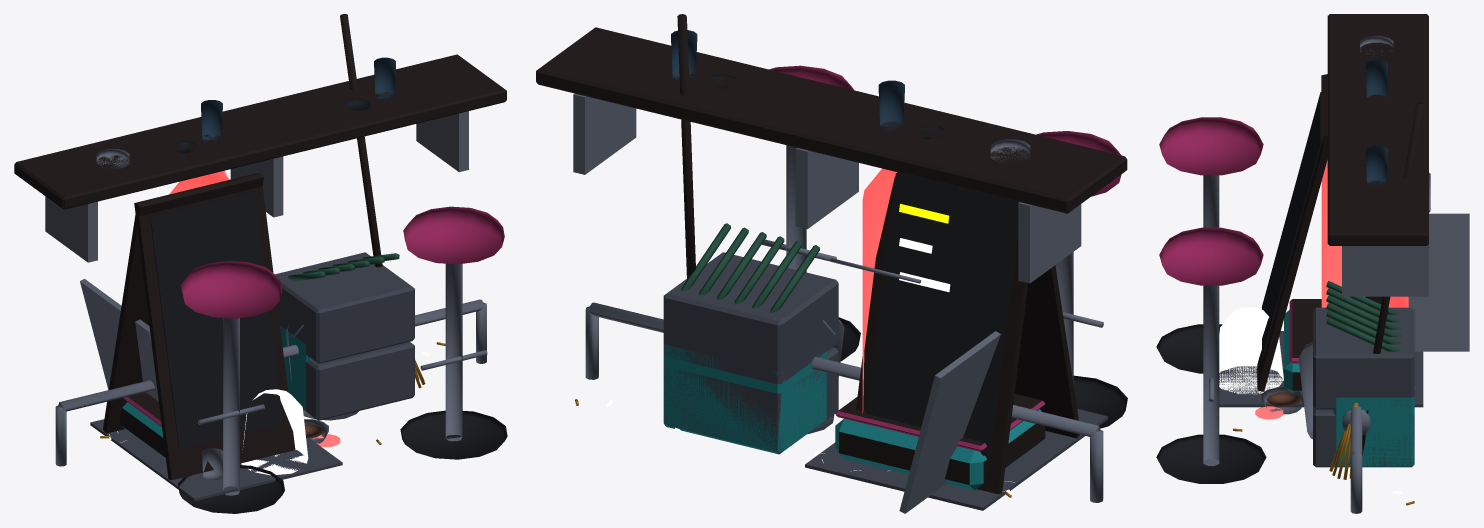
Rendered from room-detail-deptak-props.glb.
3 views of the same model, side by side, from view 1: azimuth 30°, elevation 25°; view 2: azimuth 150°, elevation 25°; view 3: azimuth 270°, elevation 25° (orthographic). The views are drawn at different scales.
Parts seen in each view (by area): view 1: rd-dp-bar, rd-dp-koi-door, rd-dp-ramen, rd-dp-ume; view 2: rd-dp-bar, rd-dp-koi-door, rd-dp-ramen, rd-dp-ume; view 3: rd-dp-bar, rd-dp-ramen, rd-dp-koi-door, rd-dp-ume.
Boxes of the visible parts, x1,y1,x2,y2 form: rd-dp-bar: [14, 54, 507, 513]; rd-dp-koi-door: [103, 173, 340, 480]; rd-dp-ramen: [80, 170, 414, 443]; rd-dp-ume: [90, 14, 425, 501]; rd-dp-bar: [536, 27, 1127, 502]; rd-dp-koi-door: [663, 172, 1079, 494]; rd-dp-ramen: [663, 168, 1000, 513]; rd-dp-ume: [677, 14, 1107, 510]; rd-dp-bar: [1156, 14, 1428, 513]; rd-dp-ramen: [1261, 160, 1469, 467]; rd-dp-koi-door: [1255, 74, 1415, 467]; rd-dp-ume: [1219, 102, 1423, 479].
Size of the model in its own units: 1.8 by 1.35 by 1.08.
1 material, 1 textured.
